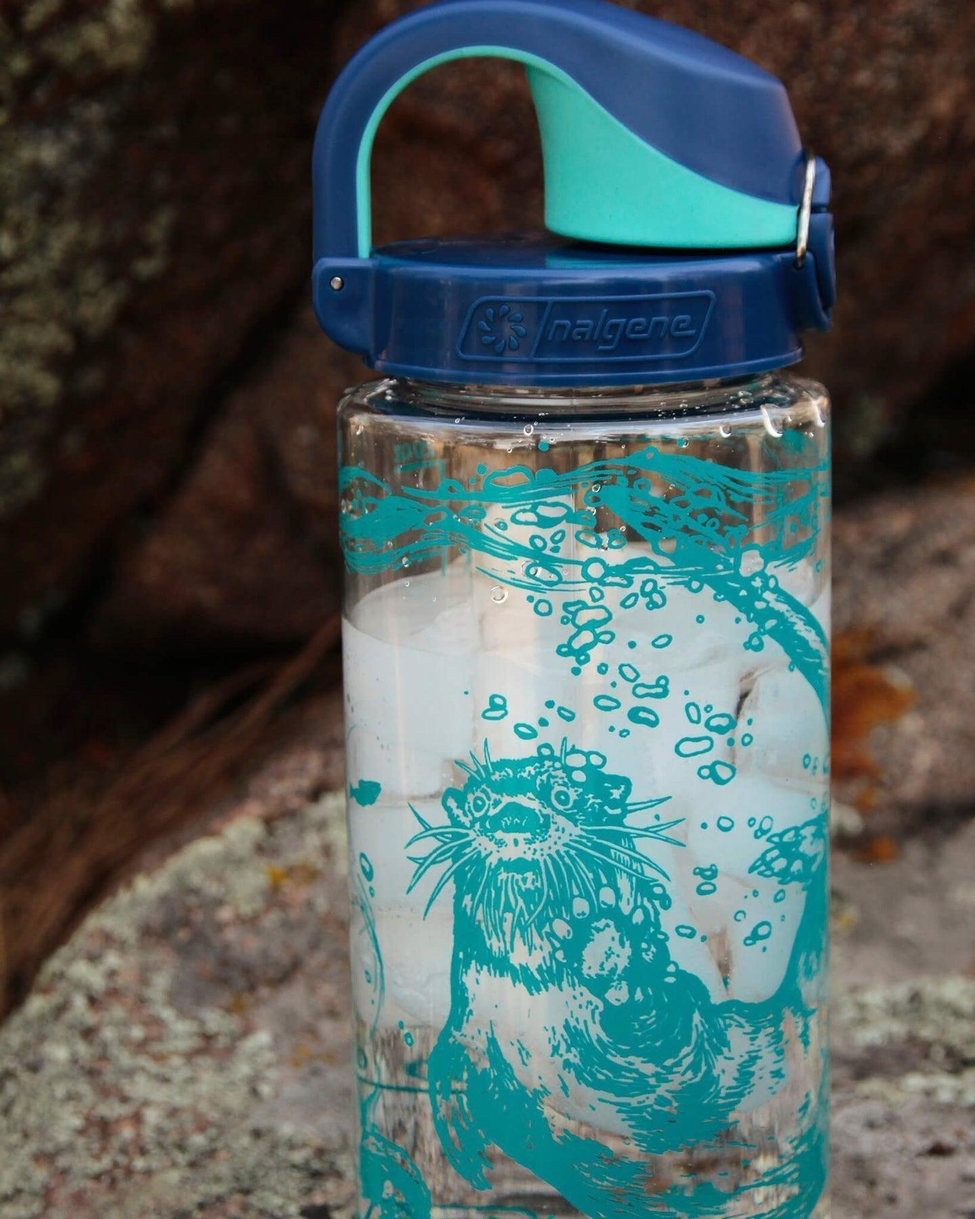gym bottle: (315, 0, 846, 1218)
